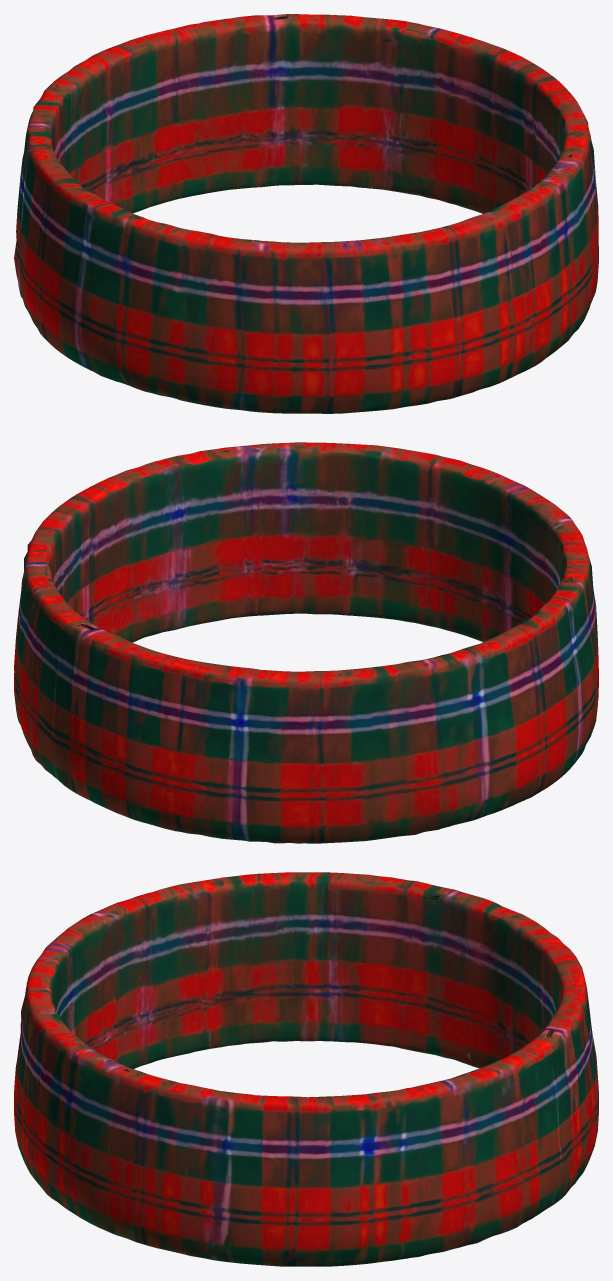
The model's file is tartan_neck.glb.
3 renders of one model, top to bottom at view 1: azimuth 30°, elevation 25°; view 2: azimuth 150°, elevation 25°; view 3: azimuth 270°, elevation 25°, orthographic.
Visible parts, largest first — view 1: geometry_0; view 2: geometry_0; view 3: geometry_0.
Part boxes in pixels (x1=…): geometry_0: x1=14, y1=14, x2=598, y2=413; geometry_0: x1=14, y1=442, x2=598, y2=843; geometry_0: x1=14, y1=872, x2=598, y2=1266.
Size of the model in its own units: 0.9468 by 0.2949 by 0.9546.
Materials: 1 (1 with a texture image).
